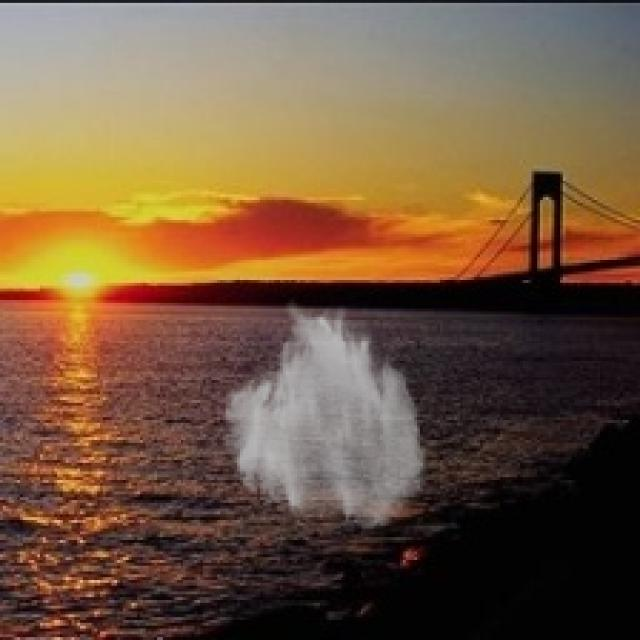smoke: (220, 297, 429, 534)
